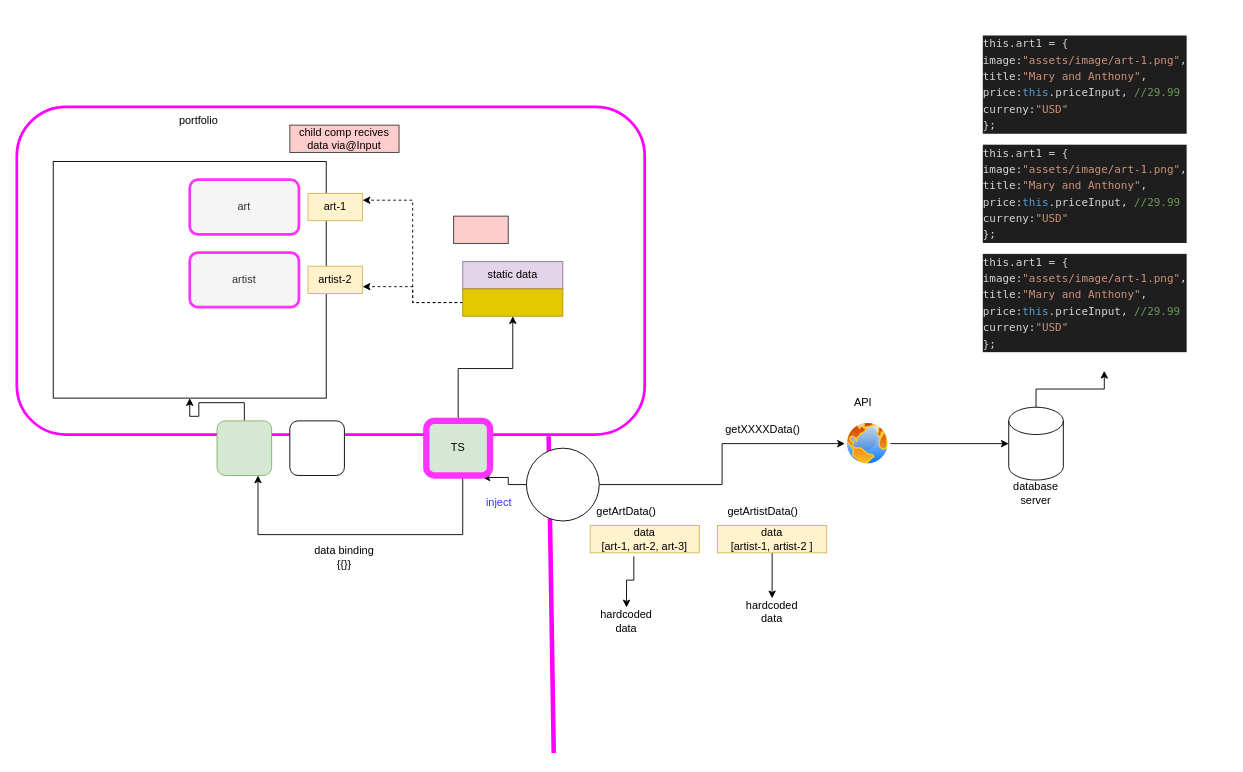
This 1243x772 diagram has some shape labels left out. Each missing label, with the centre of its shape:
CSS: [316,447]
dynamic data: [512,302]
HTML: [244,447]
parent pass data: [480,229]
portfolio service: [562,484]
